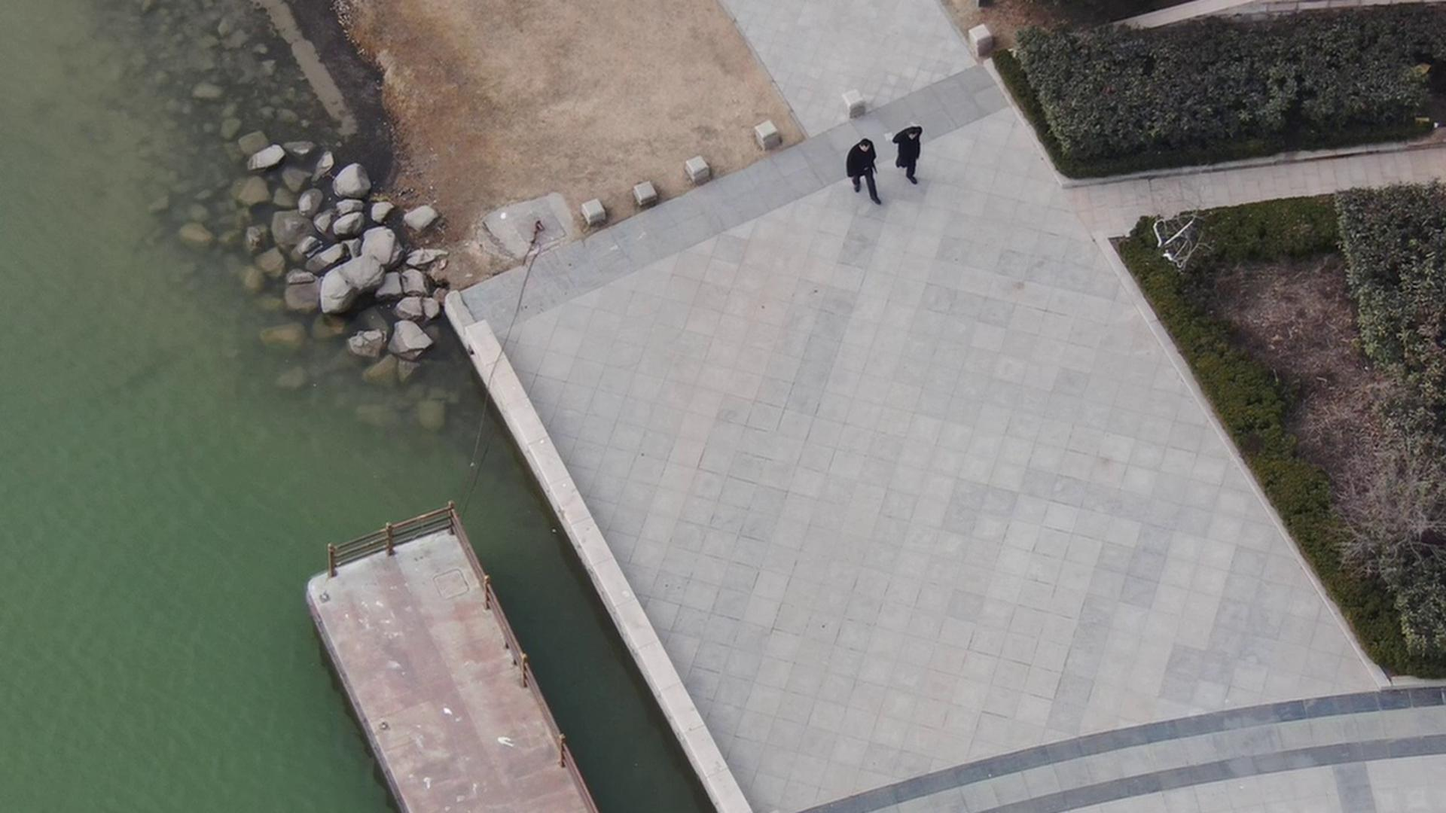human: (816, 119, 865, 190), (871, 113, 915, 175)
